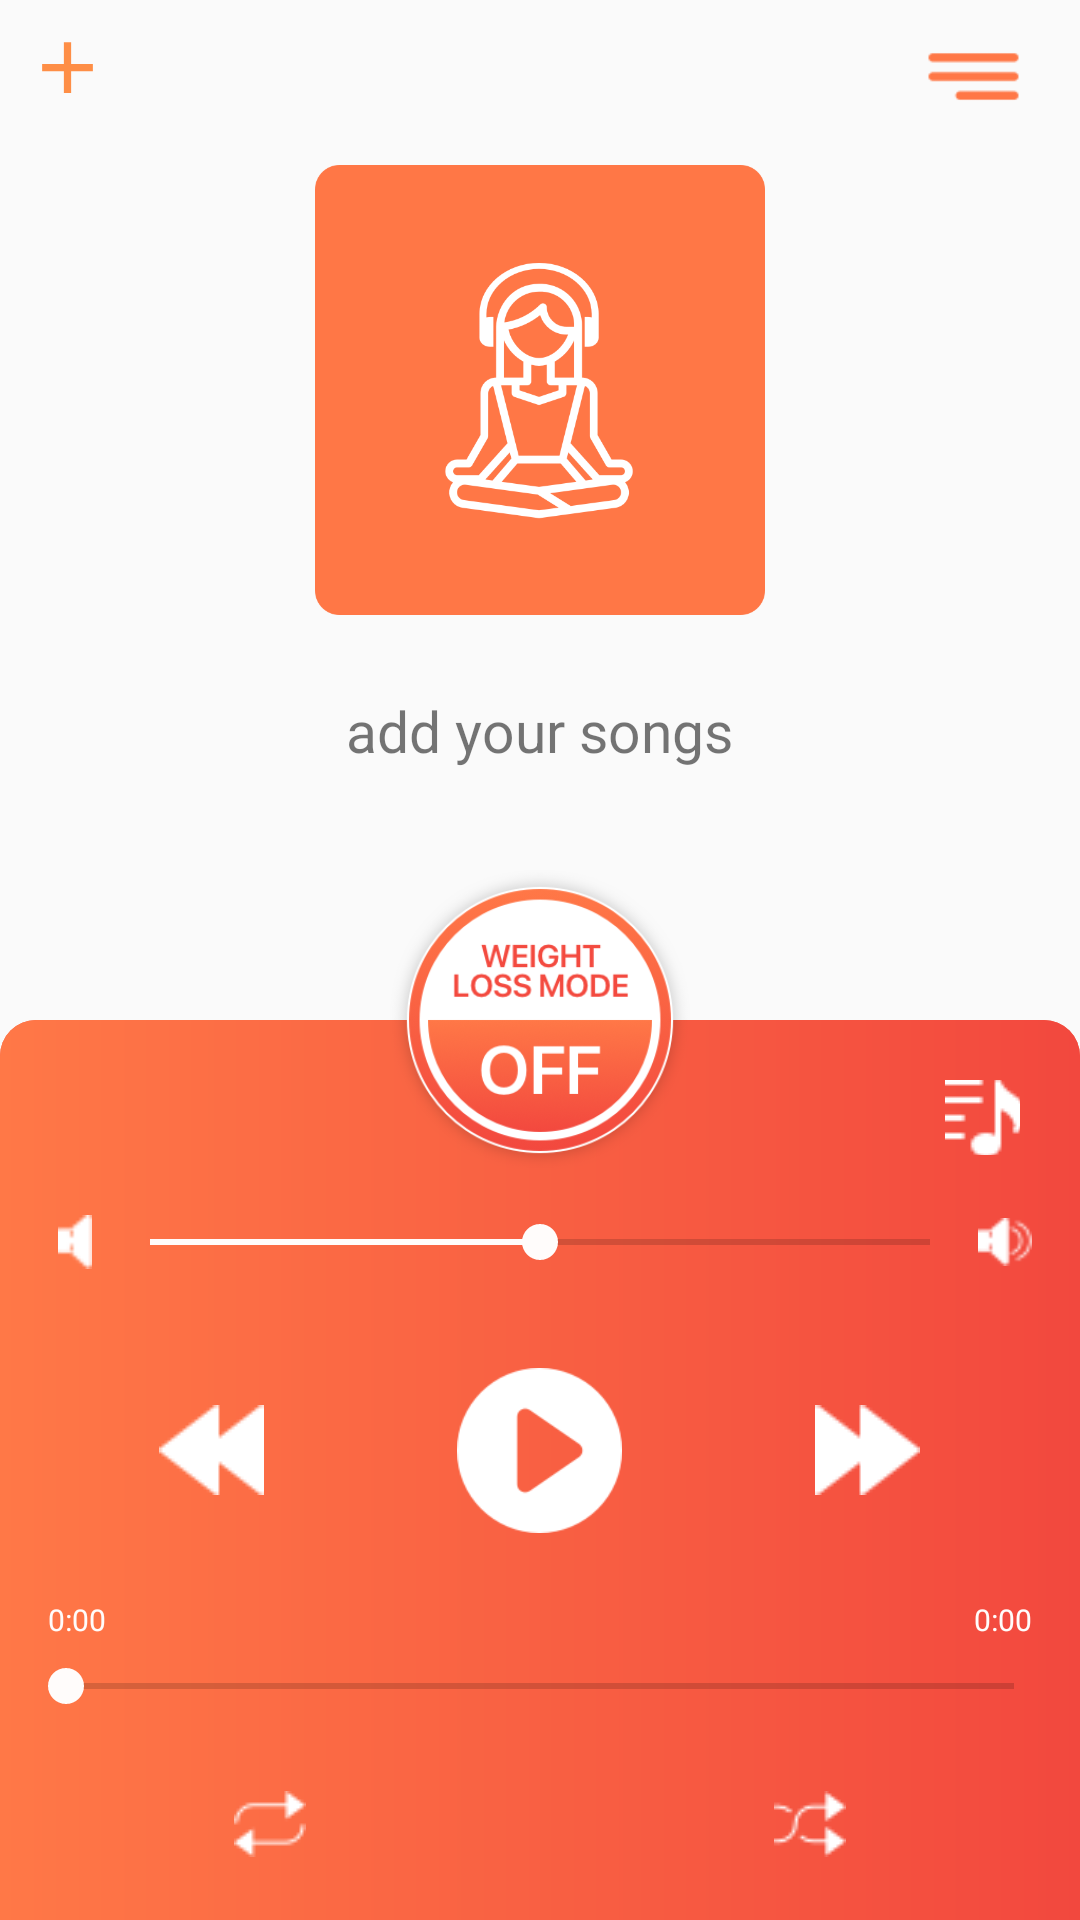

Where to tap for icons on this 1080w x 1920h app screen, as [x,y]:
burgerpanel: [973,76]
leftarrow: [211,1450]
playlist: [982,1117]
repeat: [270,1824]
rightarrow: [867,1450]
shuffle: [810,1824]
speeakeroff: [75,1242]
speeakeron: [1005,1242]
